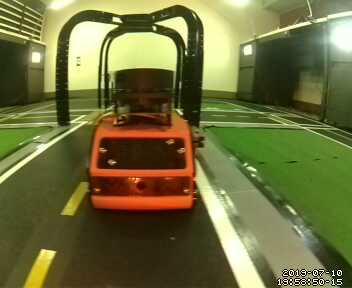pheeno: (84, 68, 202, 215)
